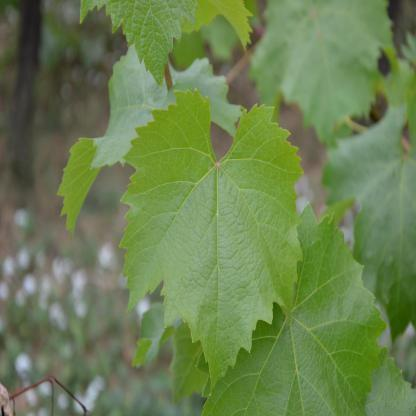grape leaf black rot: (119, 91, 308, 393), (214, 240, 381, 416)
